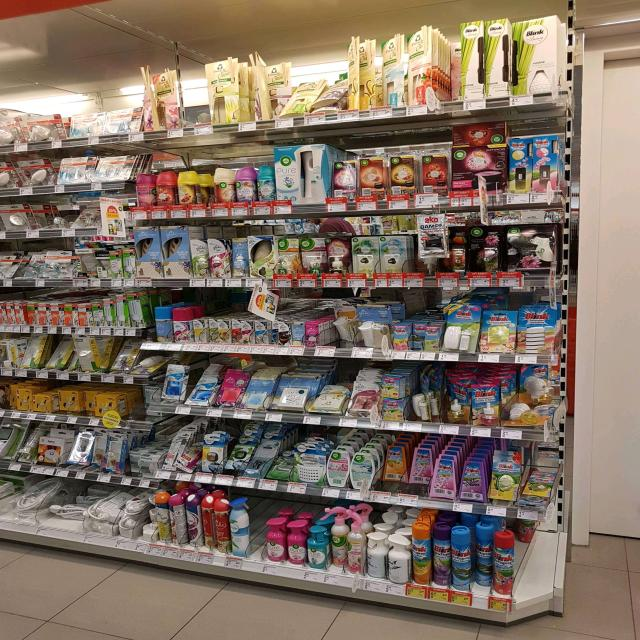empty: (244, 508, 266, 562)
